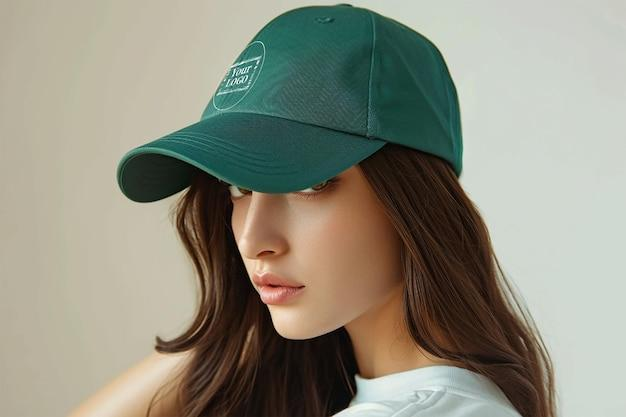cap: (111, 0, 480, 201)
